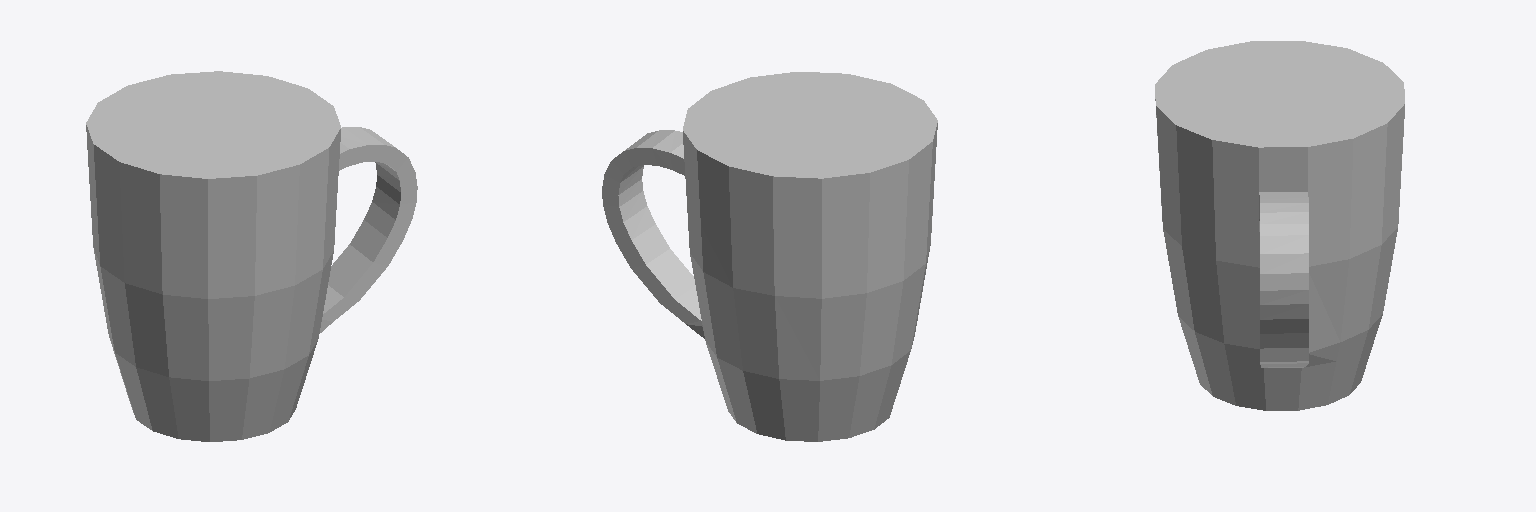
The model's file is mug_collider.obj.
3 views of the same model, side by side, from view 1: azimuth 30°, elevation 25°; view 2: azimuth 150°, elevation 25°; view 3: azimuth 270°, elevation 25° (orthographic).
Visible parts, largest first — view 1: Cylinder_Cylinder.002; view 2: Cylinder_Cylinder.002; view 3: Cylinder_Cylinder.002.
Boxes of the visible parts, x1=… form: Cylinder_Cylinder.002: x1=86, y1=71, x2=417, y2=441; Cylinder_Cylinder.002: x1=602, y1=72, x2=937, y2=441; Cylinder_Cylinder.002: x1=1155, y1=41, x2=1404, y2=410.
Bounding box in the file's own units: 8.96 × 7.97 × 6.41.